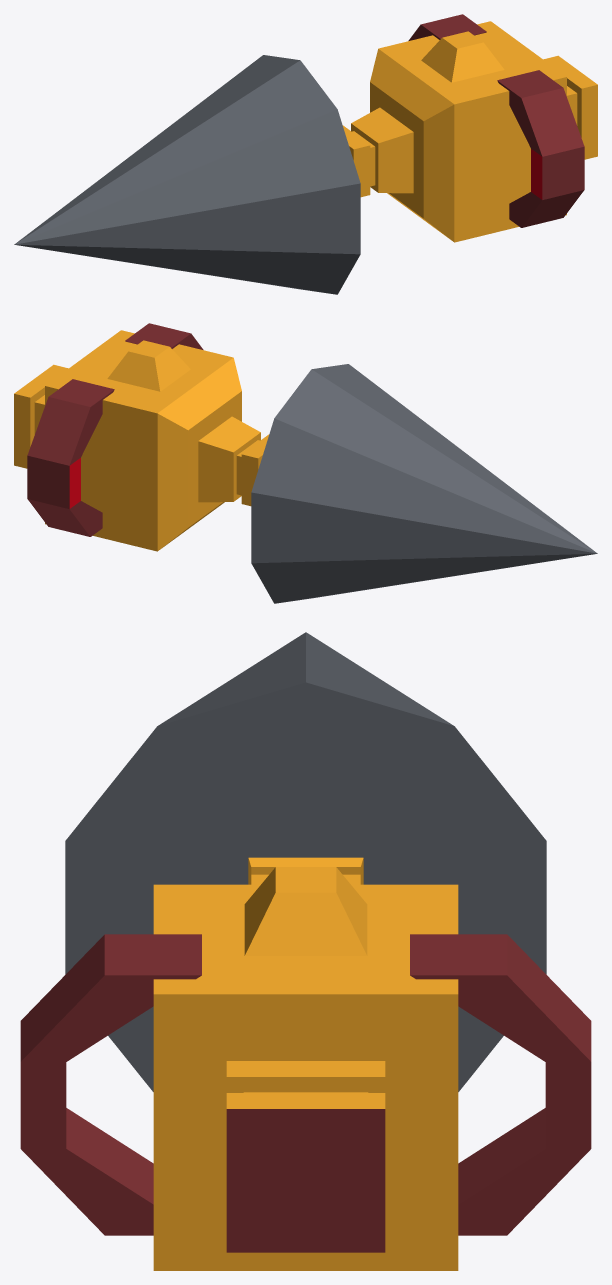
Rendered from Drill.fbx.
3 views of the same model, one above another, from view 1: azimuth 30°, elevation 25°; view 2: azimuth 150°, elevation 25°; view 3: azimuth 270°, elevation 25° (orthographic). The views are drawn at different scales.
Parts seen in each view (by area): view 1: Cylinder; view 2: Cylinder; view 3: Cylinder.
Boxes of the visible parts, <box> form: Cylinder: <box>14,14,597,294</box>; Cylinder: <box>14,323,597,603</box>; Cylinder: <box>20,632,591,1270</box>.
Bounding box in the file's own units: 515 × 200 × 226.
